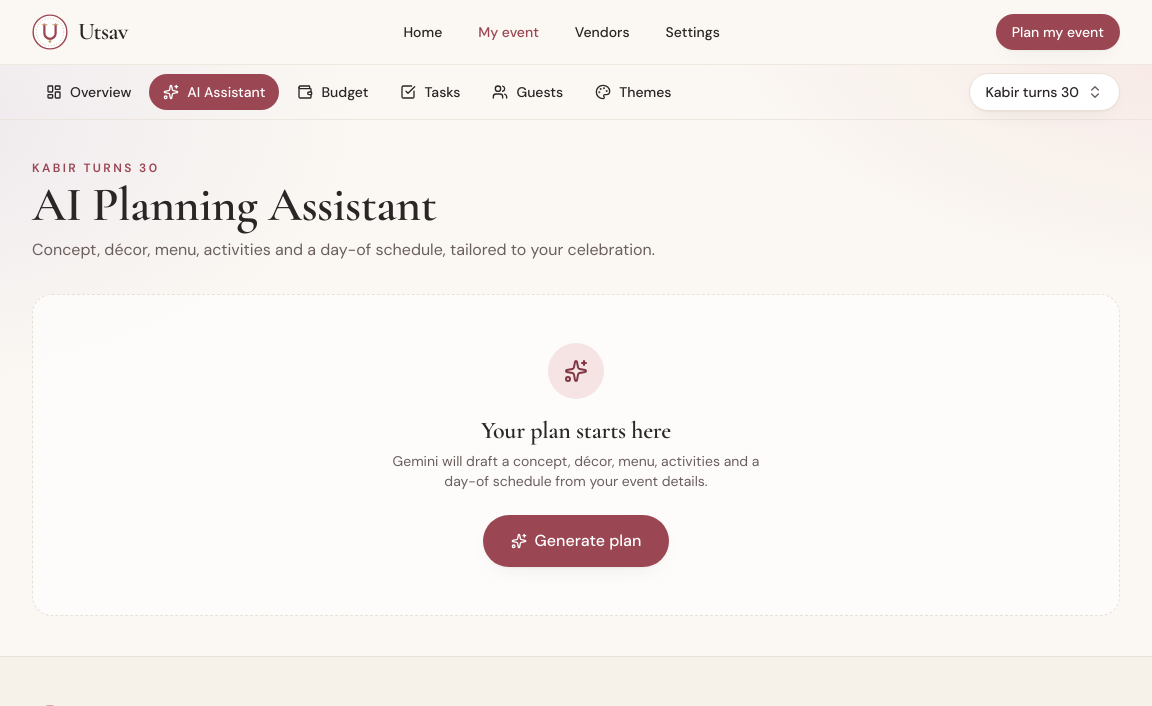
Test: AssistantPage › saves the plan to the event
Click the button "Generate plan": point(576, 541) [483,515,670,567]
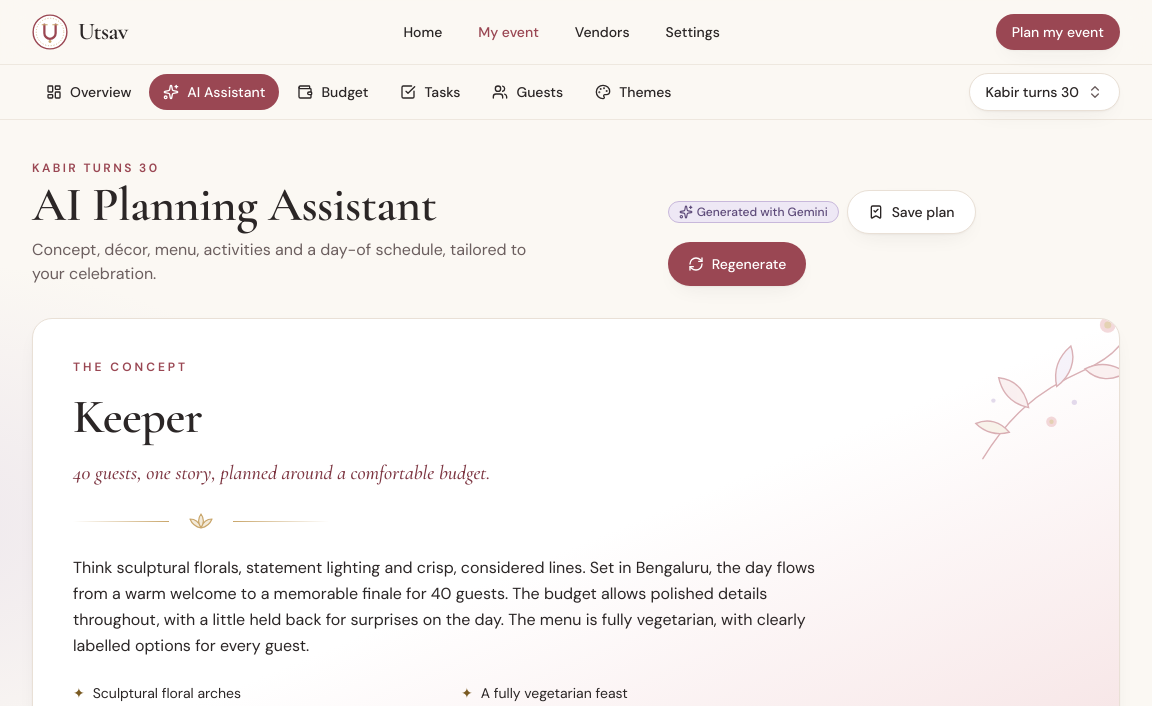
Click the button "Save plan": point(911, 212) [847,190,976,234]
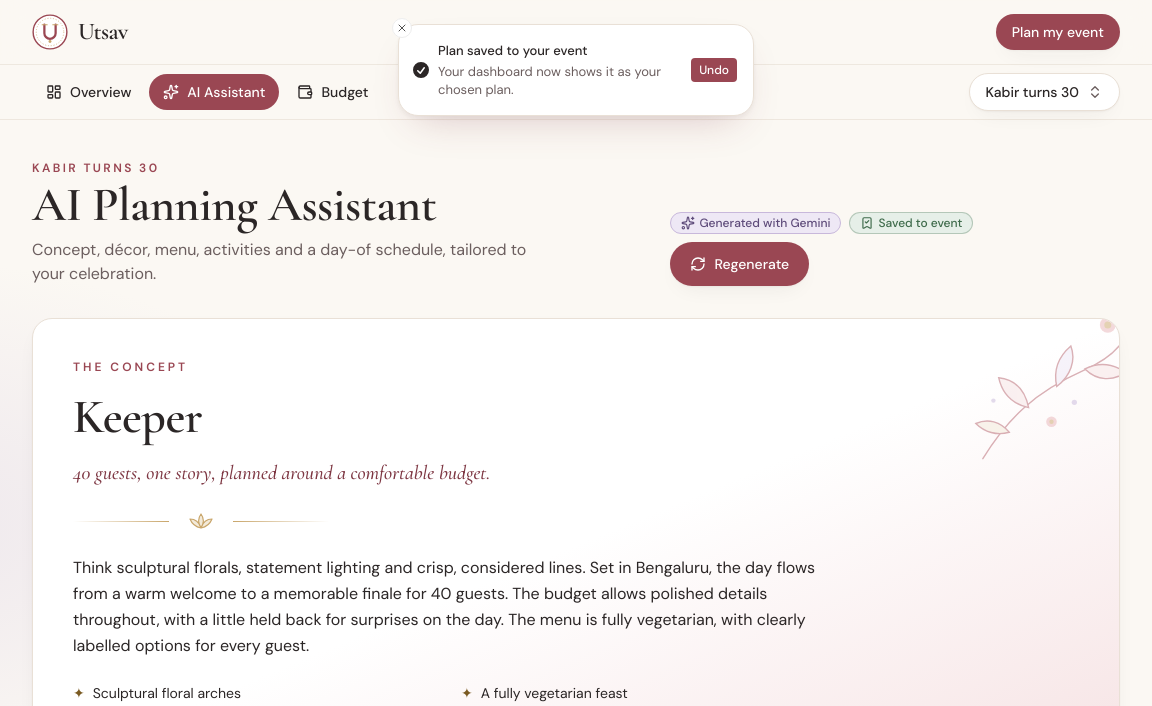
Now the text "Saved to event" is shown, box [849,212,973,234]
